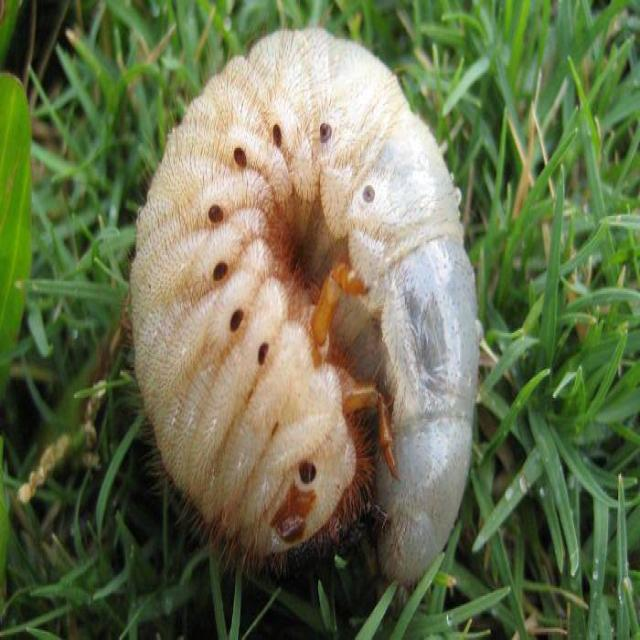Grub-Adult-: (118, 31, 502, 594)
